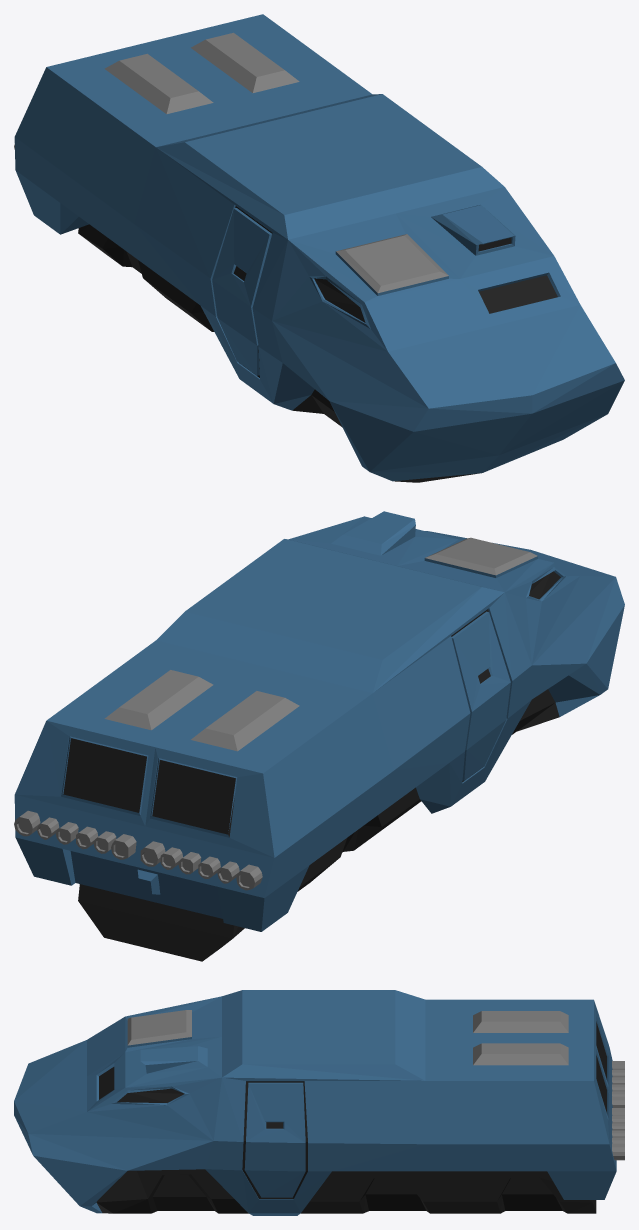
File: ground vehicle new friendly.glb
The picture shows the model from 3 angles, top to bottom: view 1: azimuth 30°, elevation 25°; view 2: azimuth 150°, elevation 25°; view 3: azimuth 270°, elevation 25°; orthographic projection. The views are drawn at different scales.
Visible parts, largest first — view 1: tripo_node_607ddd75-9668-4620-9256-250a60ecf628; view 2: tripo_node_607ddd75-9668-4620-9256-250a60ecf628; view 3: tripo_node_607ddd75-9668-4620-9256-250a60ecf628.
Boxes of the visible parts, x1,y1,x2,y2 form: tripo_node_607ddd75-9668-4620-9256-250a60ecf628: [14, 14, 624, 482]; tripo_node_607ddd75-9668-4620-9256-250a60ecf628: [14, 511, 624, 961]; tripo_node_607ddd75-9668-4620-9256-250a60ecf628: [14, 990, 624, 1215].
Size of what is drawn, in the model's own units: 3.77 by 3.03 by 9.98.
